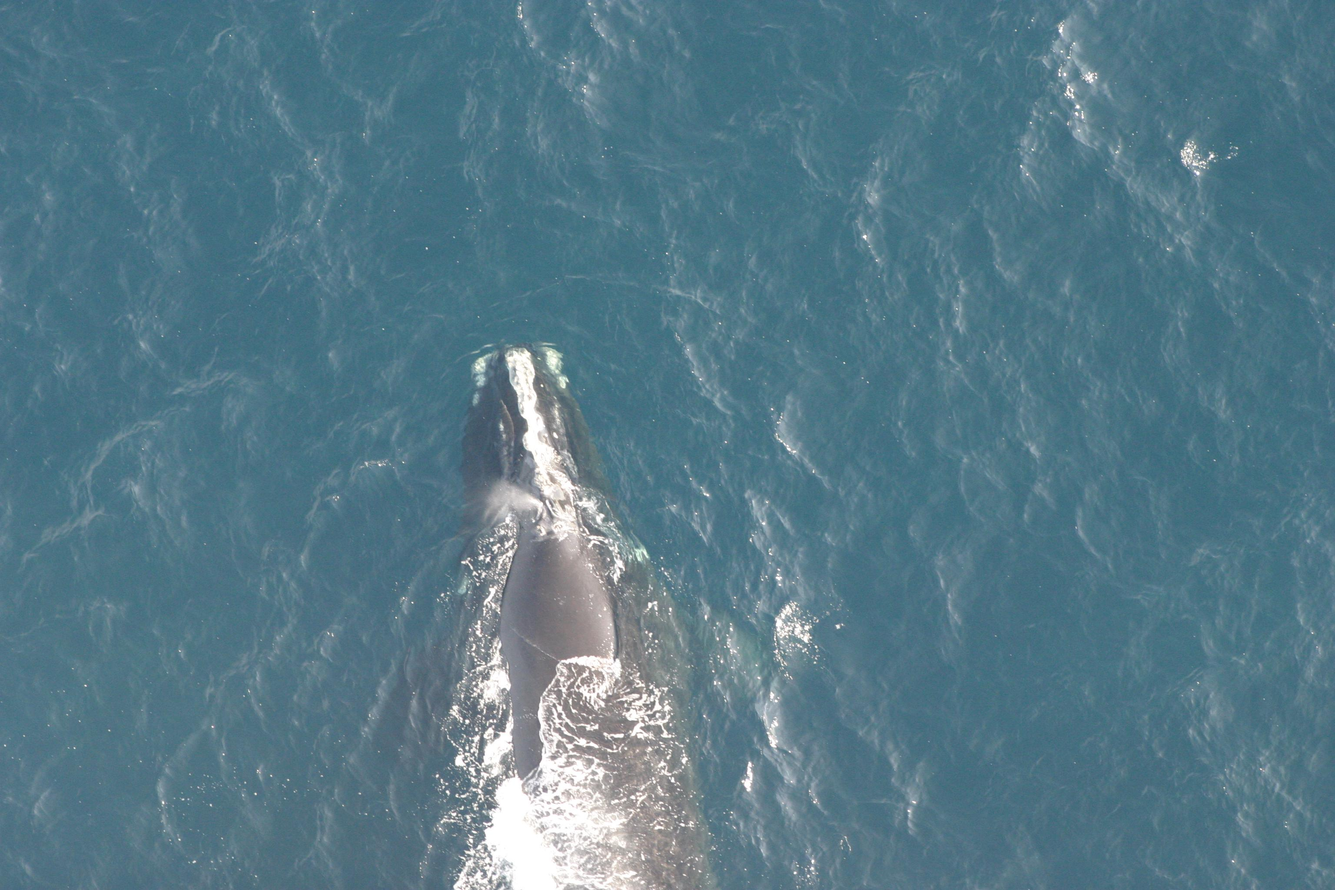whale: (375, 334, 760, 890)
